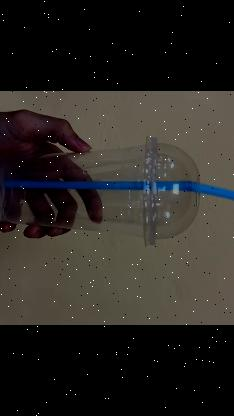Others: (0, 133, 195, 255)
